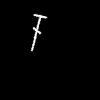double_crochet: (31, 14, 46, 50)
